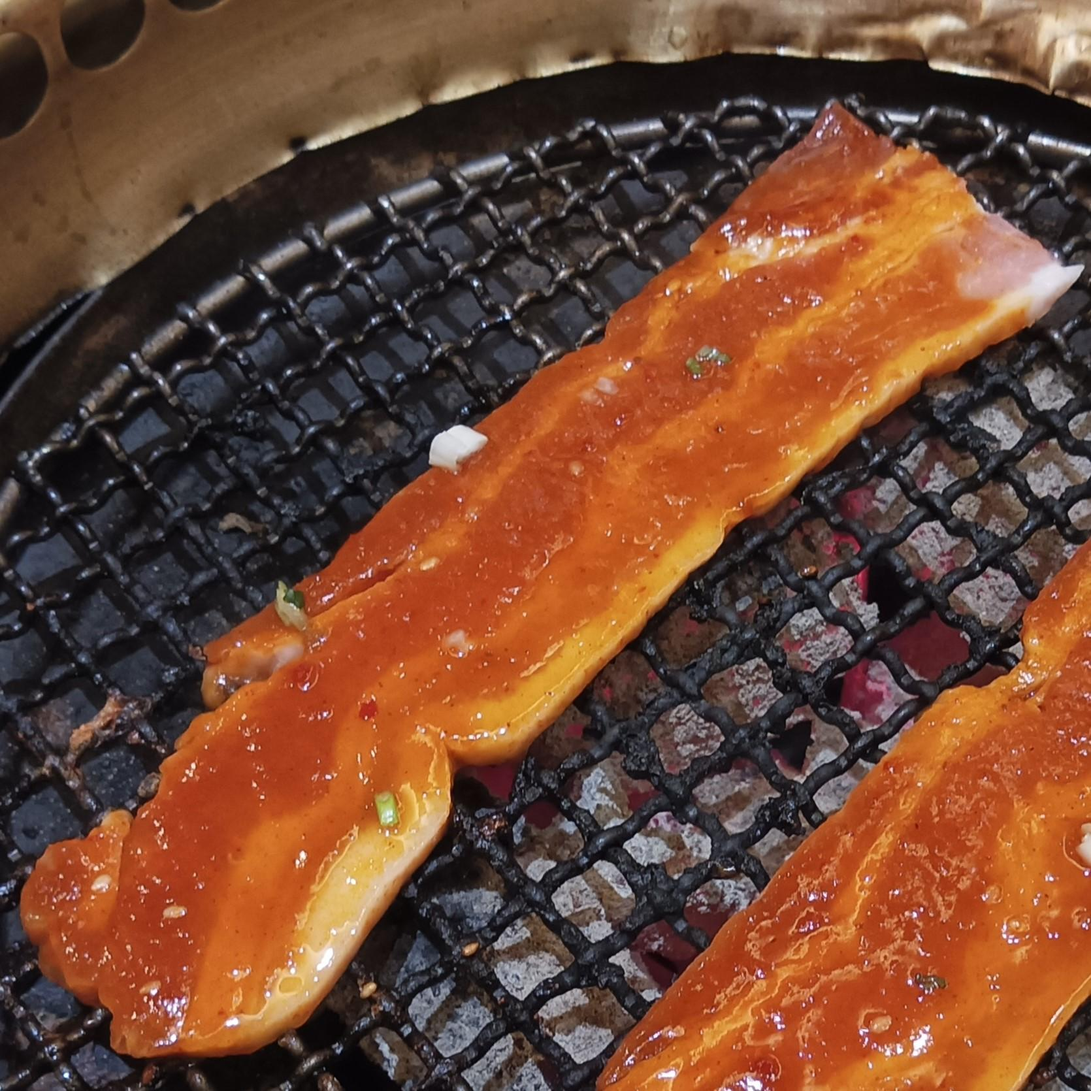Undercooked: (21, 105, 1079, 1056), (598, 541, 1090, 1090)
